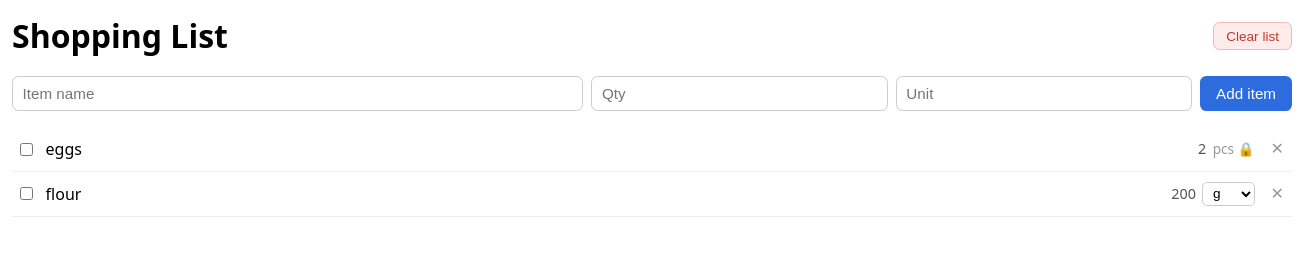
Test: adding a new item appends it to the list
Expected: the text "eggs" is shown, [46,137,82,161]
In the field labelled "Item name": point(298, 94) [12,76,583,111], type "milk"
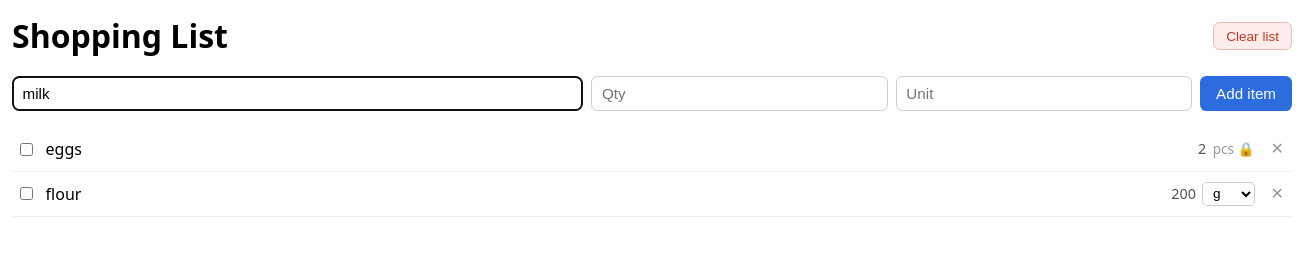
In the number field named "item quantity": point(740, 94) [591,76,888,111], type "1"
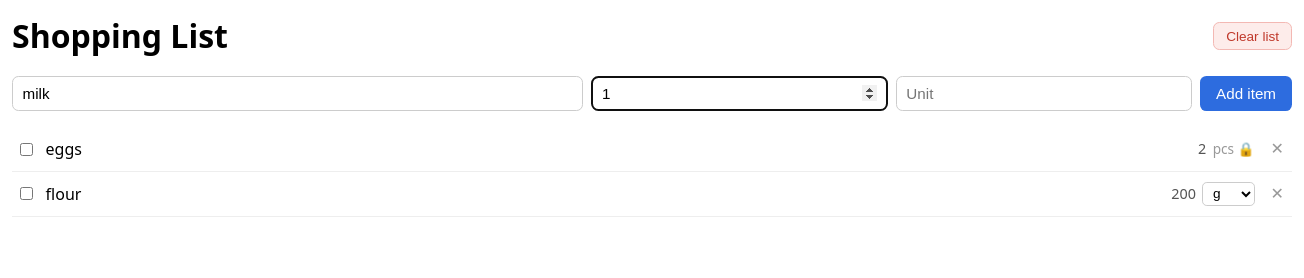
In the field named "item unit": point(1044, 94) [896,76,1192,111], type "l"
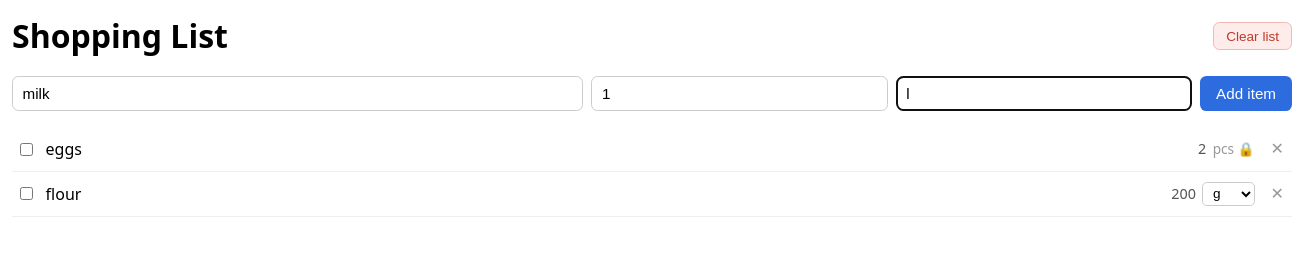
Click the button "Add item": point(1246, 94) [1200,76,1292,111]
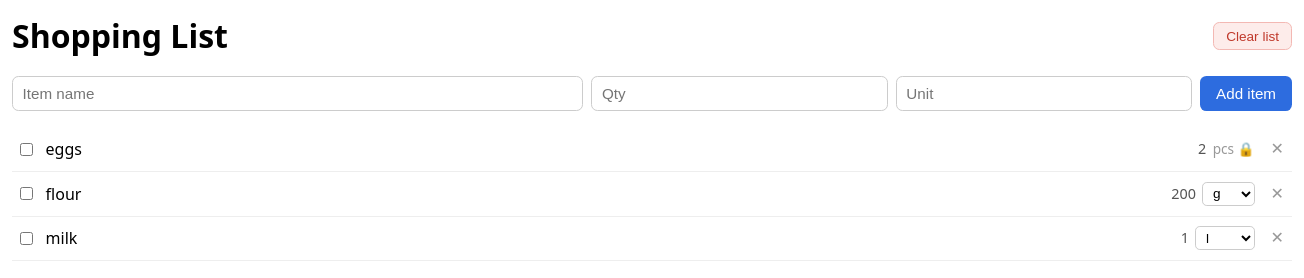
Expected: the text "eggs" is shown, [46,137,82,161]
Expected: the text "milk" is shown, [46,226,77,250]
